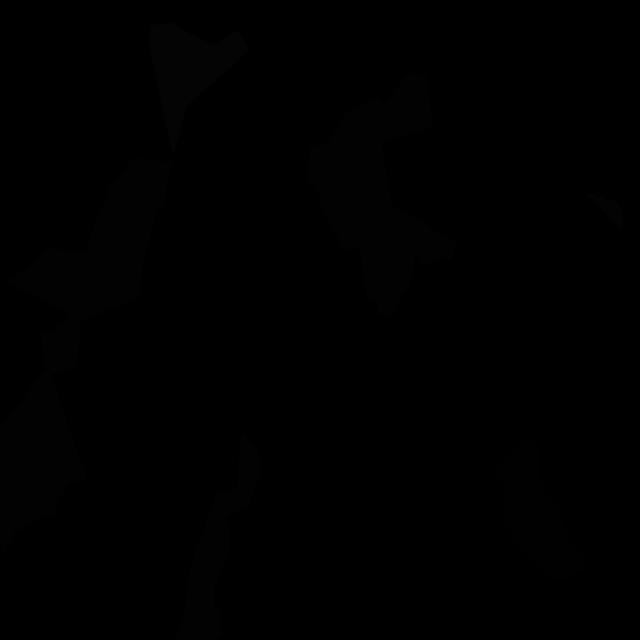cardboard: (308, 73, 458, 316), (5, 157, 172, 321), (0, 314, 87, 555), (174, 429, 262, 640)
metal: (587, 193, 623, 228)
rigid_plastic: (496, 436, 590, 581)
soft_plastic: (148, 23, 249, 157)
